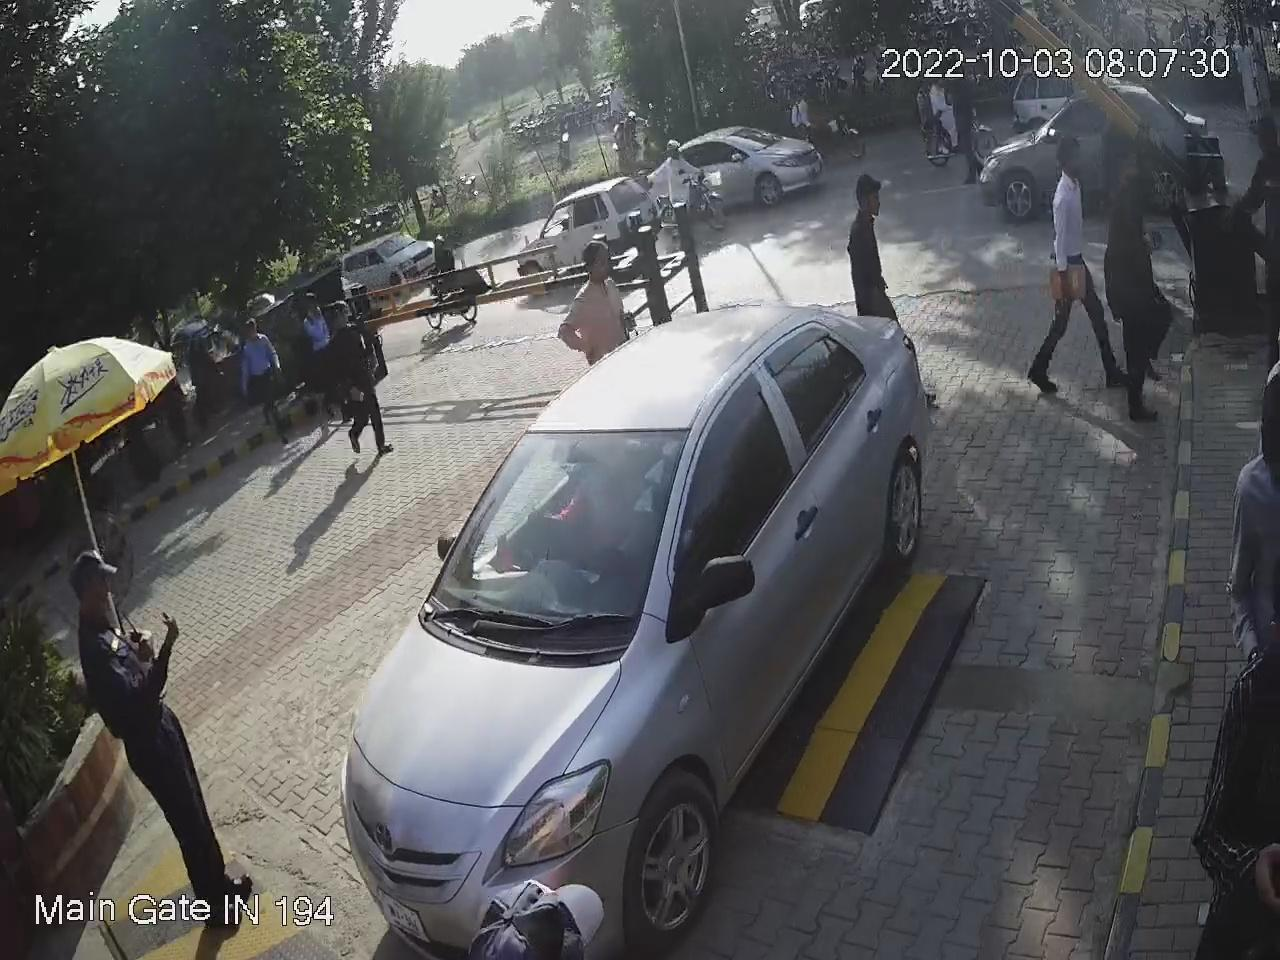windshield: (425, 423, 698, 652)
